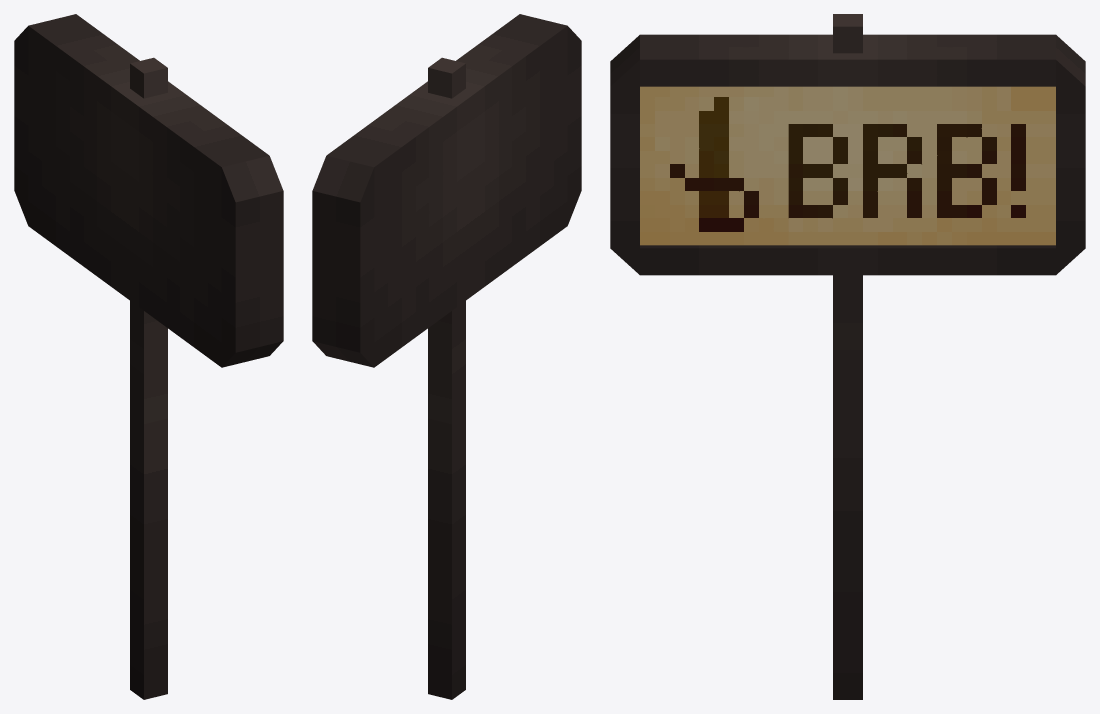
File: construct_sign_hunting.obj
3 renders of one model, left to right at view 1: azimuth 30°, elevation 25°; view 2: azimuth 150°, elevation 25°; view 3: azimuth 270°, elevation 25°, orthographic. The views are drawn at different scales.
Parts seen in each view (by area): view 1: SIGN_HUNTING_Cube.004; view 2: SIGN_HUNTING_Cube.004; view 3: SIGN_HUNTING_Cube.004.
Part boxes in pixels (box(x1,y1,x2,y2)): SIGN_HUNTING_Cube.004: box(14, 14, 283, 699); SIGN_HUNTING_Cube.004: box(312, 14, 581, 699); SIGN_HUNTING_Cube.004: box(610, 14, 1085, 699).
Bounding box in the file's own units: 0.125 × 1.56 × 1.
